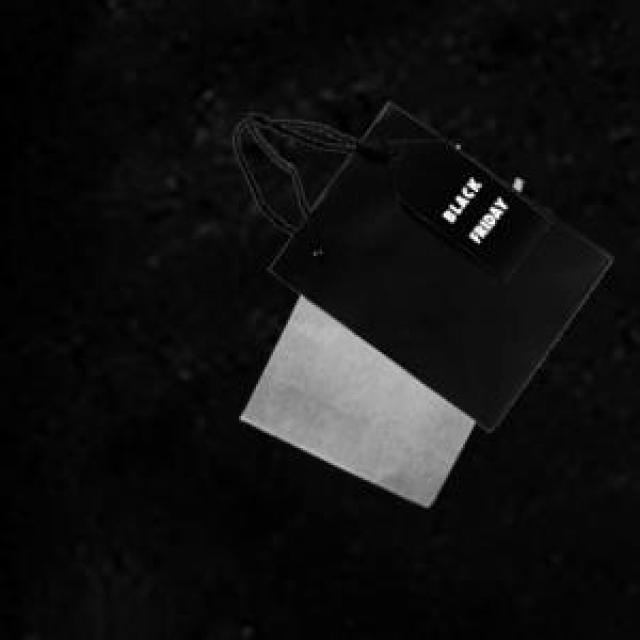paper: (230, 98, 608, 427), (237, 290, 472, 504)
